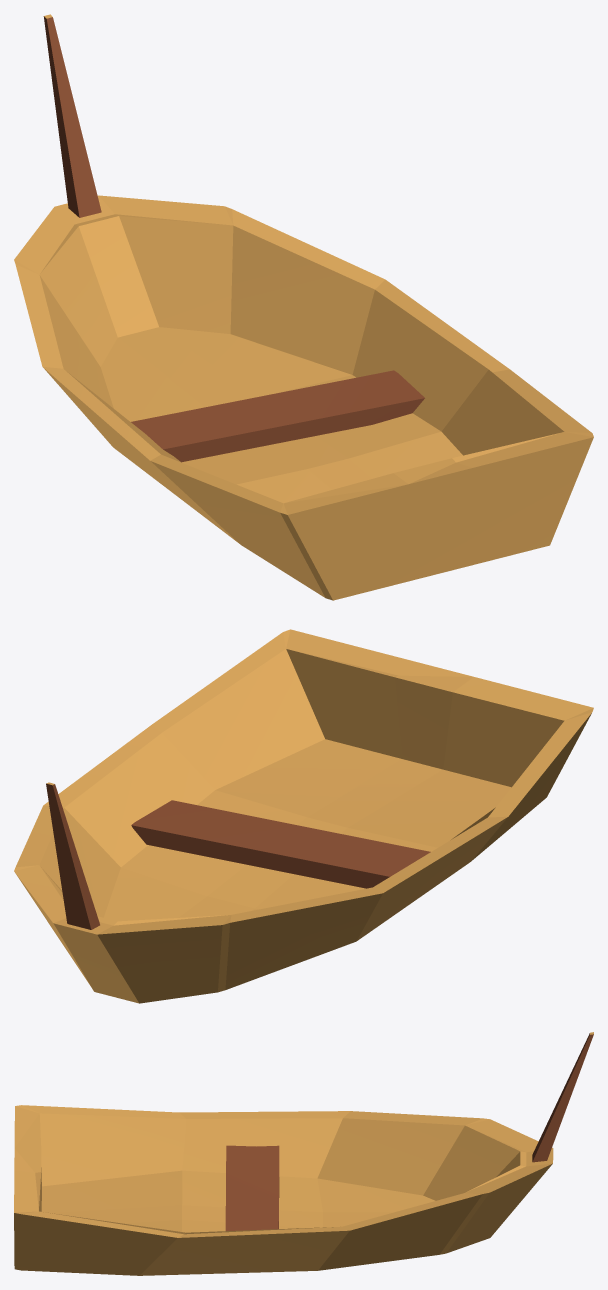
File: Boat.fbx
The picture shows the model from 3 angles, top to bottom: view 1: azimuth 30°, elevation 25°; view 2: azimuth 150°, elevation 25°; view 3: azimuth 270°, elevation 25°; orthographic projection. The views are drawn at different scales.
Parts seen in each view (by area): view 1: Boat; view 2: Boat; view 3: Boat.
Boxes of the visible parts, x1,y1,x2,y2 form: Boat: (14,14,593,600); Boat: (14,629,593,1003); Boat: (14,1032,593,1275).
Bounding box in the file's own units: 173 × 127 × 329.
